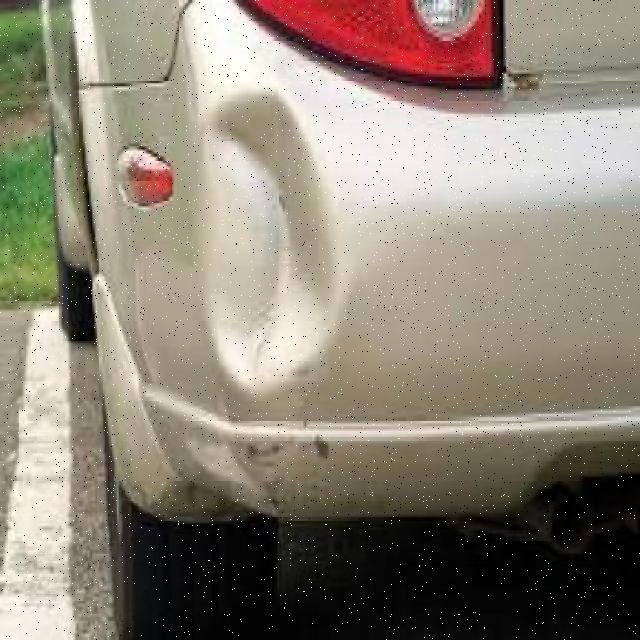damage: (186, 86, 335, 508)
